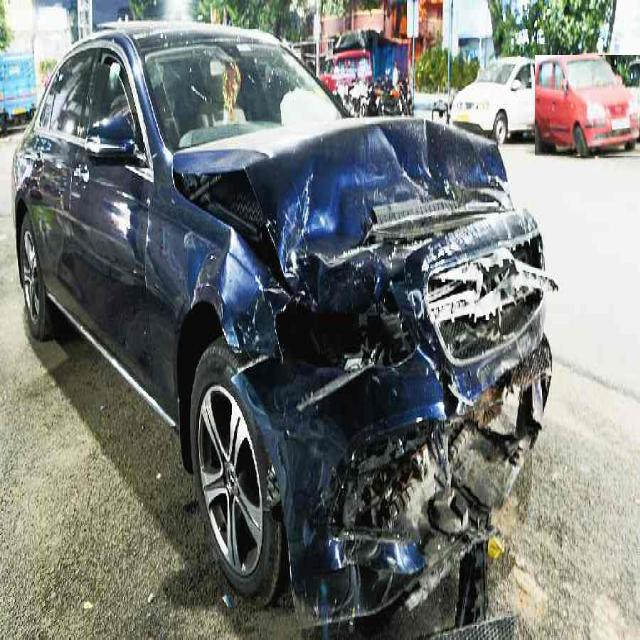accident: (12, 22, 554, 626)
car: (535, 55, 640, 156), (450, 56, 548, 145)
